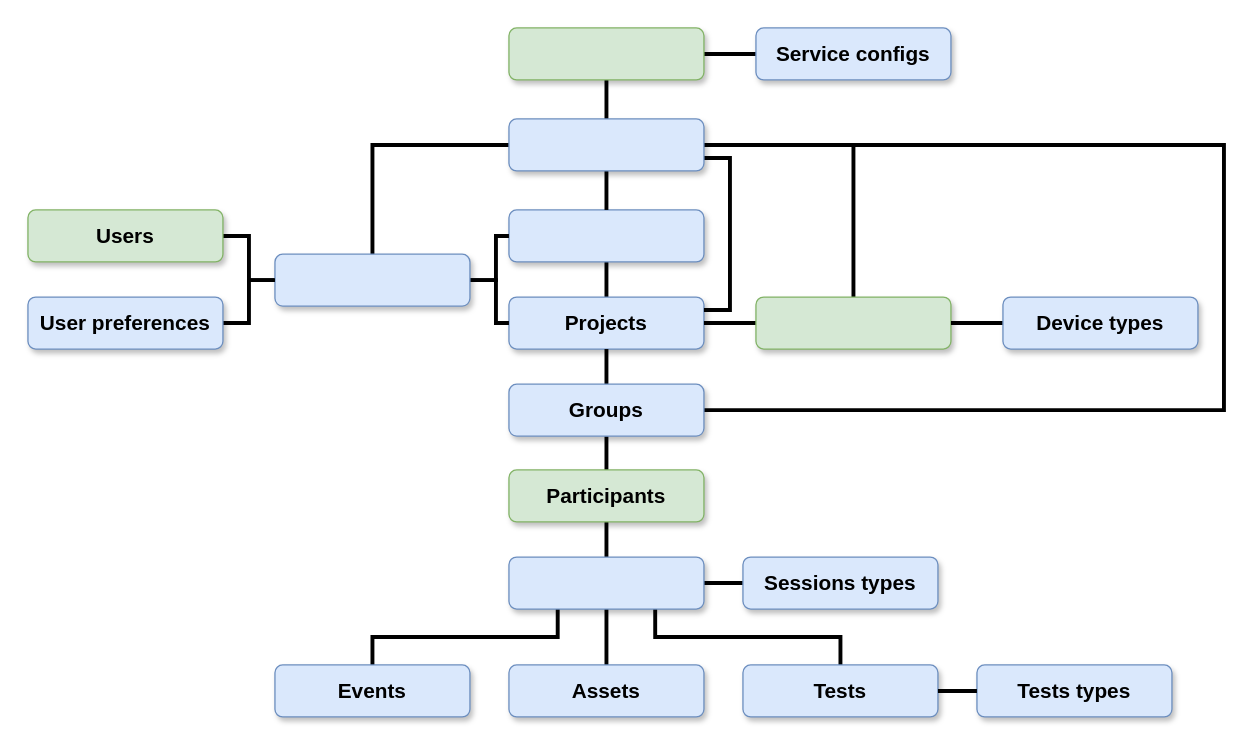
This 1249x749 diagram has some shape labels left out. The centre of each missing label's shape, as x and y in pixels:
"Devices" goes at point 854,324.
"Service roles" goes at point 607,146.
"Services" goes at point 607,55.
"Sessions" goes at point 607,584.
"Sites" goes at point 607,237.
"User groups" goes at point 373,281.
